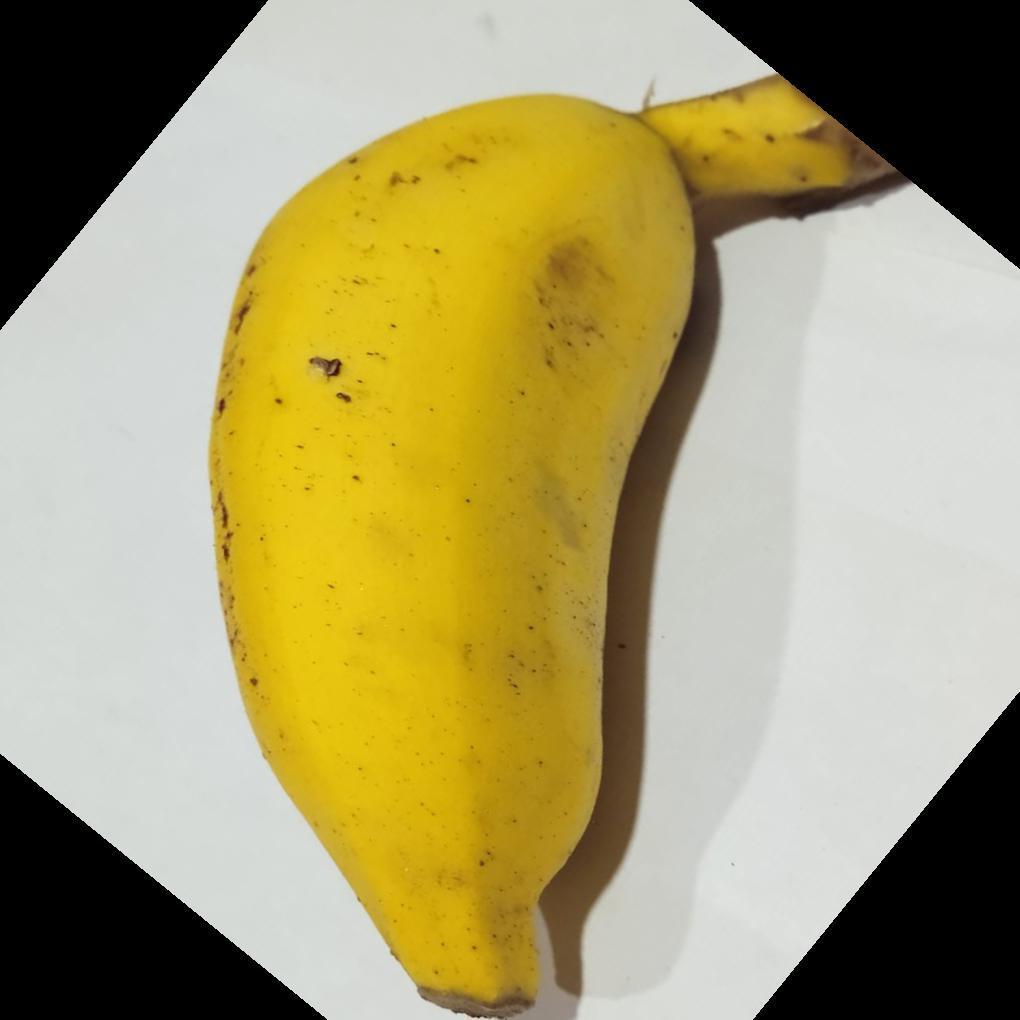Banana Ripe: (203, 90, 826, 1020)
